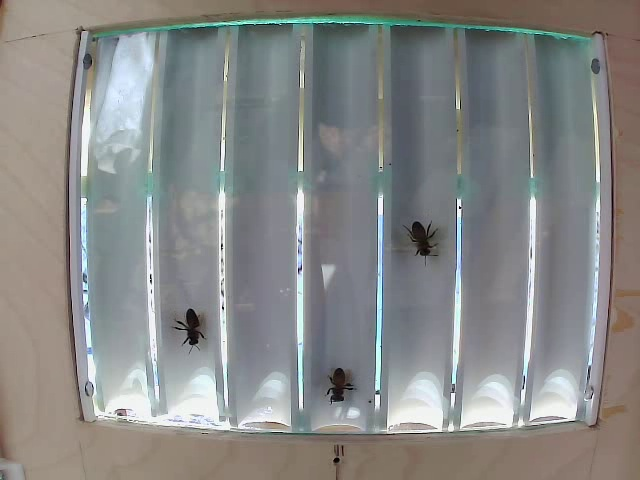bee: (324, 358, 363, 412), (395, 222, 438, 266), (166, 299, 198, 338)
